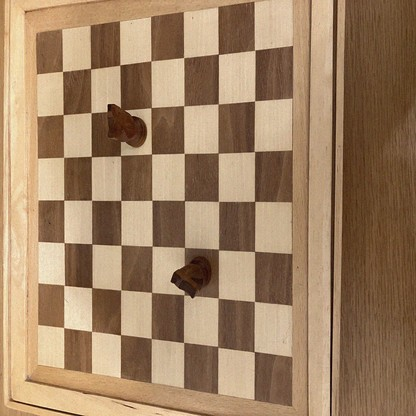knight_black: (170, 257, 213, 299), (107, 104, 147, 147)
